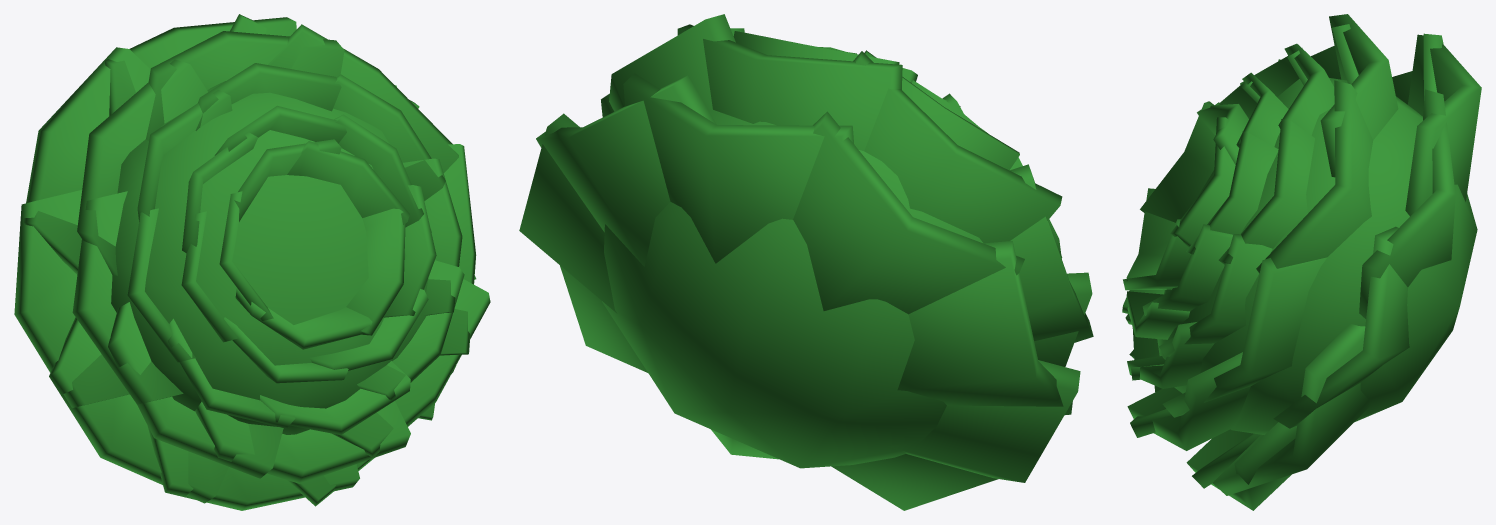
File: Lechuga.fbx
3 renders of one model, left to right at view 1: azimuth 30°, elevation 25°; view 2: azimuth 150°, elevation 25°; view 3: azimuth 270°, elevation 25°, orthographic. The views are drawn at different scales.
Parts seen in each view (by area): view 1: Icosphere; view 2: Icosphere; view 3: Icosphere.
Part boxes in pixels (x1,y1,x2,y2): Icosphere: [14, 14, 490, 510]; Icosphere: [519, 14, 1093, 510]; Icosphere: [1122, 14, 1481, 510].
Size of the model in its own units: 138 by 129 by 97.94.
